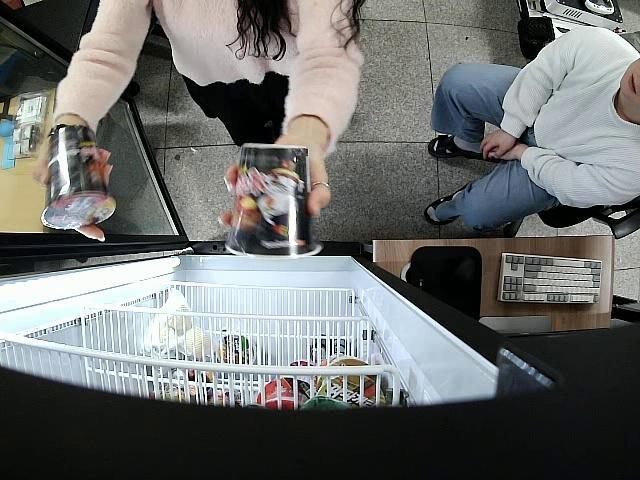08_buldak_S: (225, 142, 322, 261), (40, 123, 117, 232)
